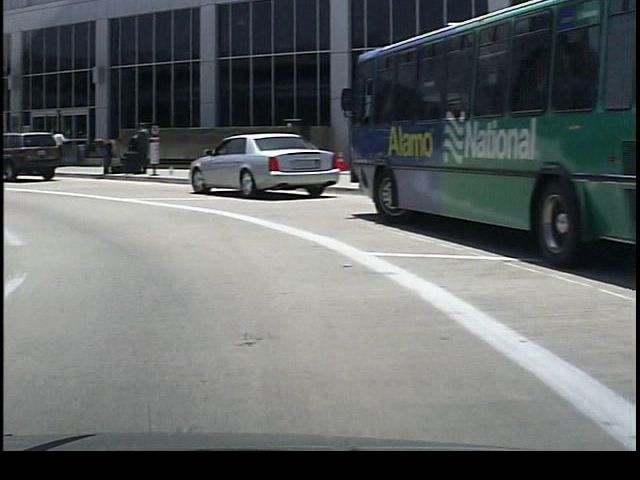person: (89, 127, 118, 181), (126, 121, 148, 176)
